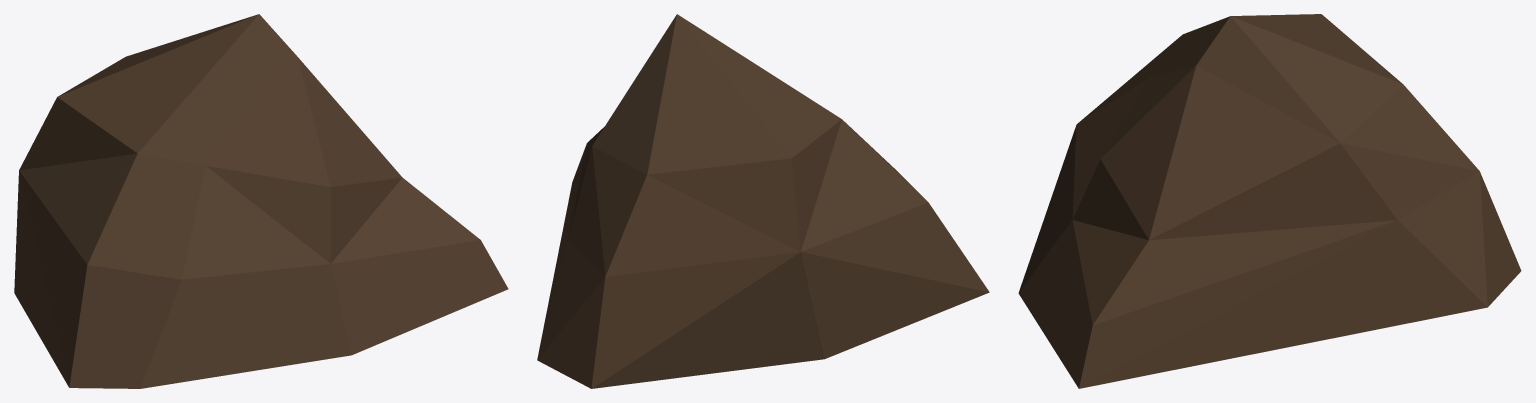
File: Rock_8_Dark_Brown.fbx
3 renders of one model, left to right at view 1: azimuth 30°, elevation 25°; view 2: azimuth 150°, elevation 25°; view 3: azimuth 270°, elevation 25°, orthographic. The views are drawn at different scales.
Parts seen in each view (by area): view 1: Rock_8_Dark_Brown; view 2: Rock_8_Dark_Brown; view 3: Rock_8_Dark_Brown.
Part boxes in pixels (x1,y1,x2,y2): Rock_8_Dark_Brown: (14, 14, 508, 388); Rock_8_Dark_Brown: (537, 14, 989, 388); Rock_8_Dark_Brown: (1018, 14, 1521, 388).
Size of the model in its own units: 232 by 137 by 222.
